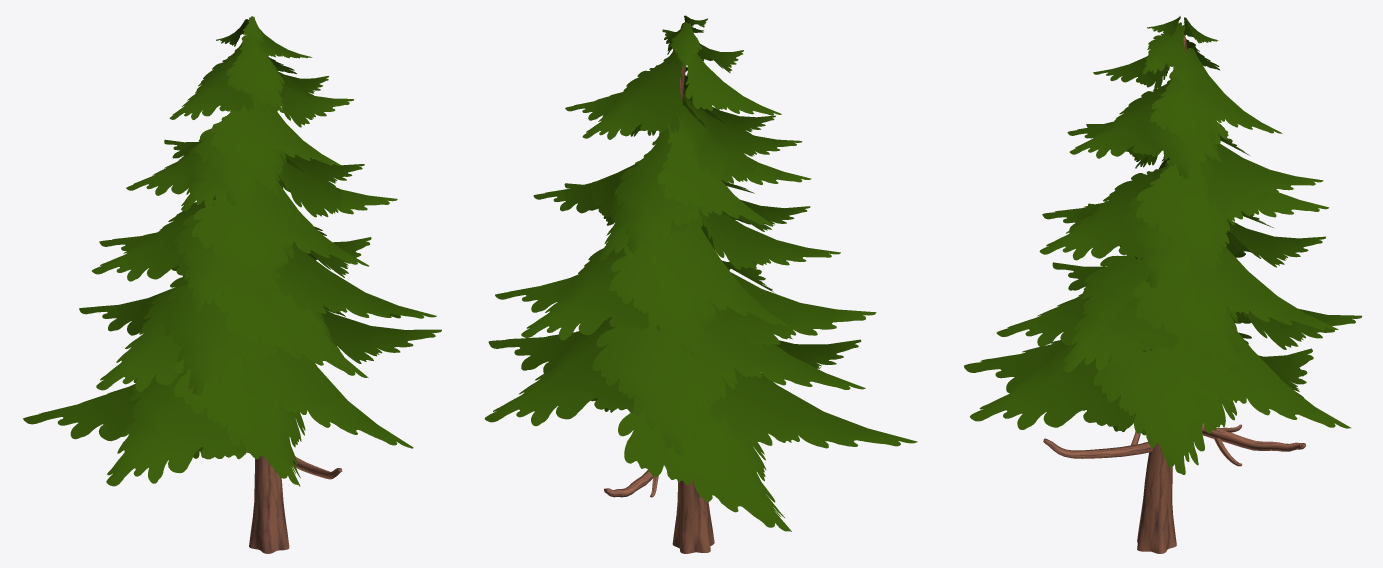
Rendered from pino_1.obj.
3 views of the same model, side by side, from view 1: azimuth 30°, elevation 25°; view 2: azimuth 150°, elevation 25°; view 3: azimuth 270°, elevation 25° (orthographic). The views are drawn at different scales.
Visible parts, largest first — view 1: Pine_2; view 2: Pine_2; view 3: Pine_2.
Part boxes in pixels (<box>): Pine_2: <box>23,16,441,553</box>; Pine_2: <box>484,15,917,553</box>; Pine_2: <box>964,16,1361,553</box>.
Bounding box in the file's own units: 5.73 × 7.38 × 5.22.
2 materials, 2 textured.
